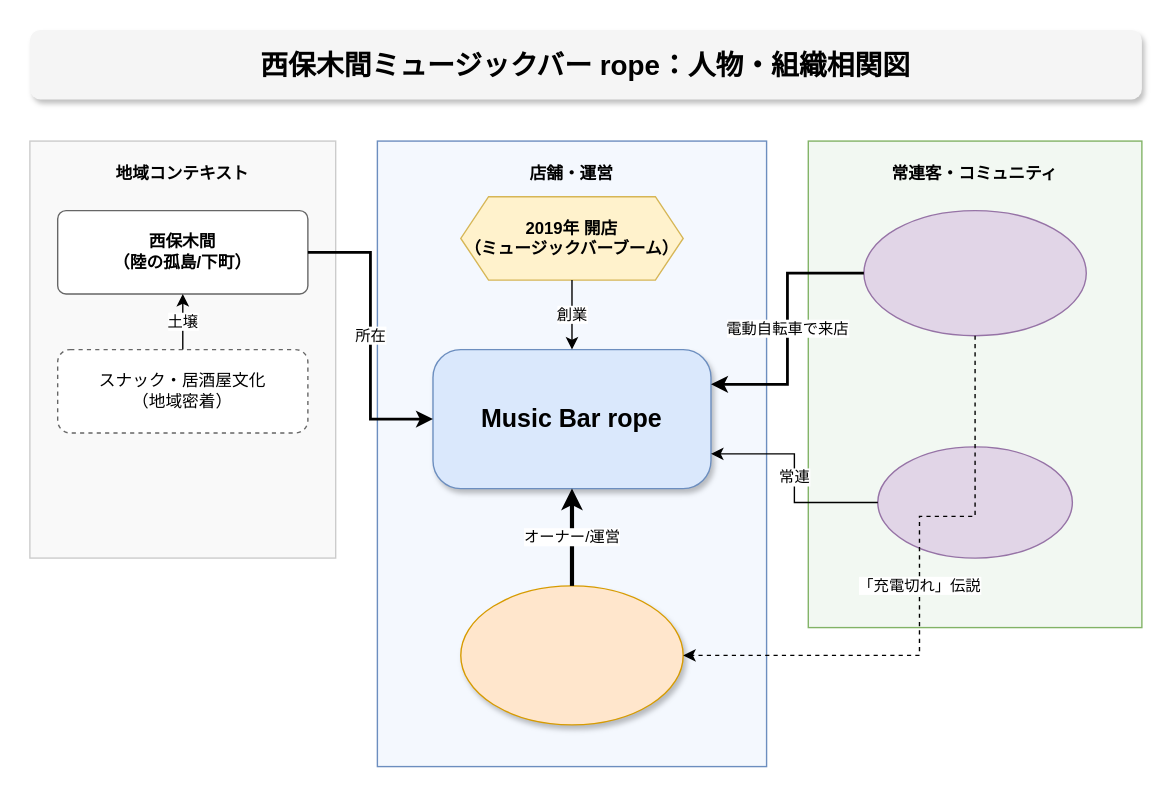
This 1173x791 diagram has some shape labels left out. The shapes that lost their labels are listed below. From the top down, each one's centre as x and y in pixels, then its label:
[974,272]: 岡ちゃん （伝説のブルースマン）
[974,501]: マイコちゃん （常連客）
[573,657]: マスター たいぞう君
